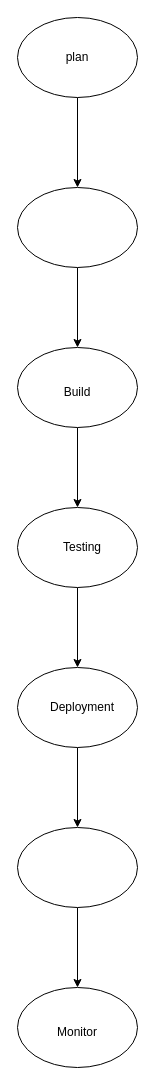
This 155x1085 diagram has some shape labels left out. Each missing label, with the centre of its shape:
Develop: point 77,227
operate: point 77,867
